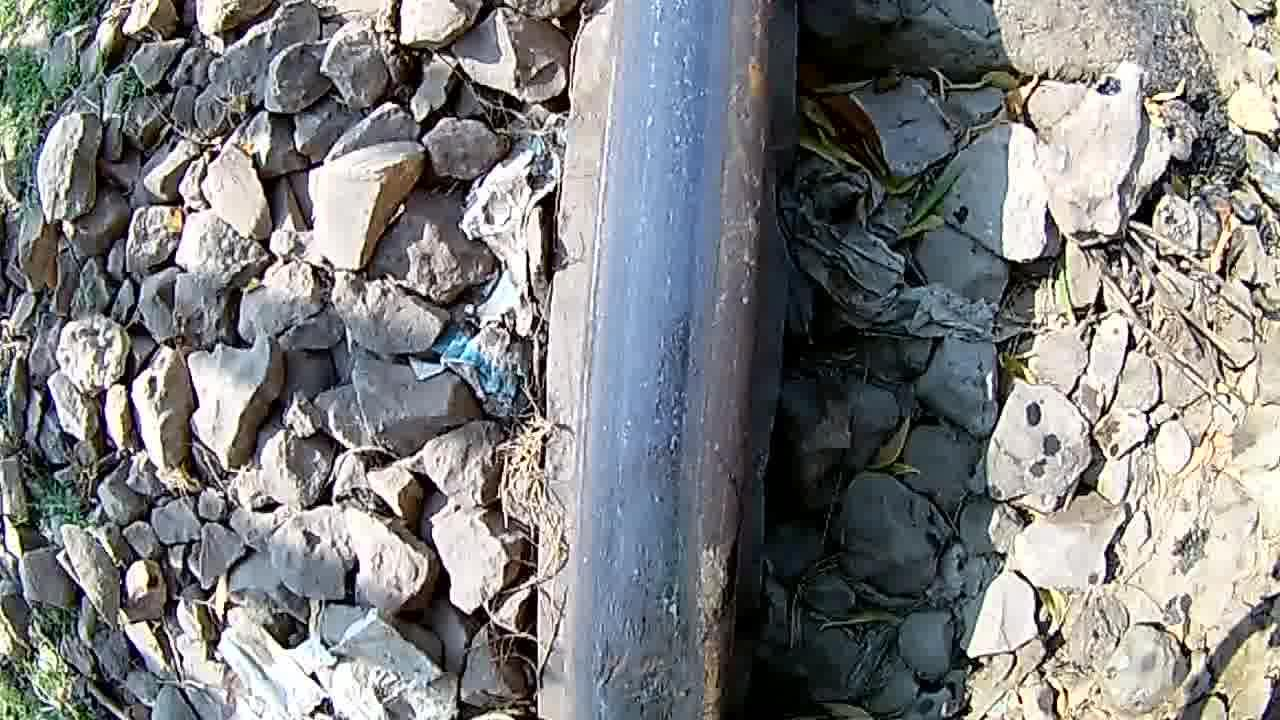bolt_missing: (576, 483, 720, 720)
